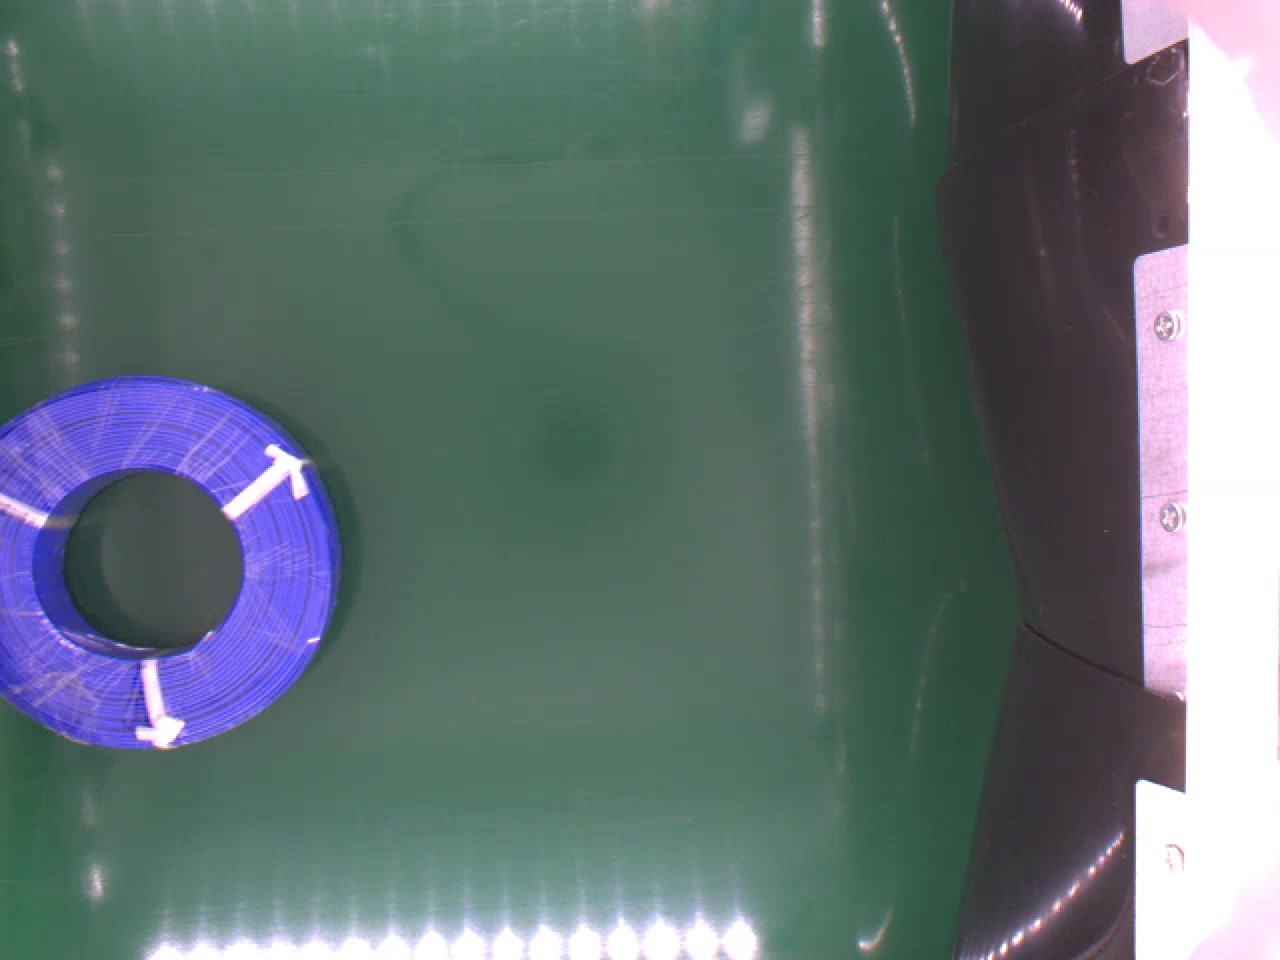blue: (0, 374, 340, 750)
